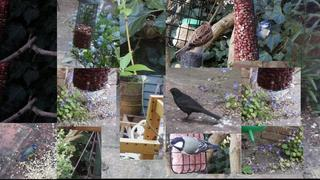blackbird: (167, 88, 221, 123)
blue tit: (254, 20, 271, 45), (20, 143, 37, 159)
great tit: (168, 136, 220, 155)
sparrow: (174, 20, 214, 59)
